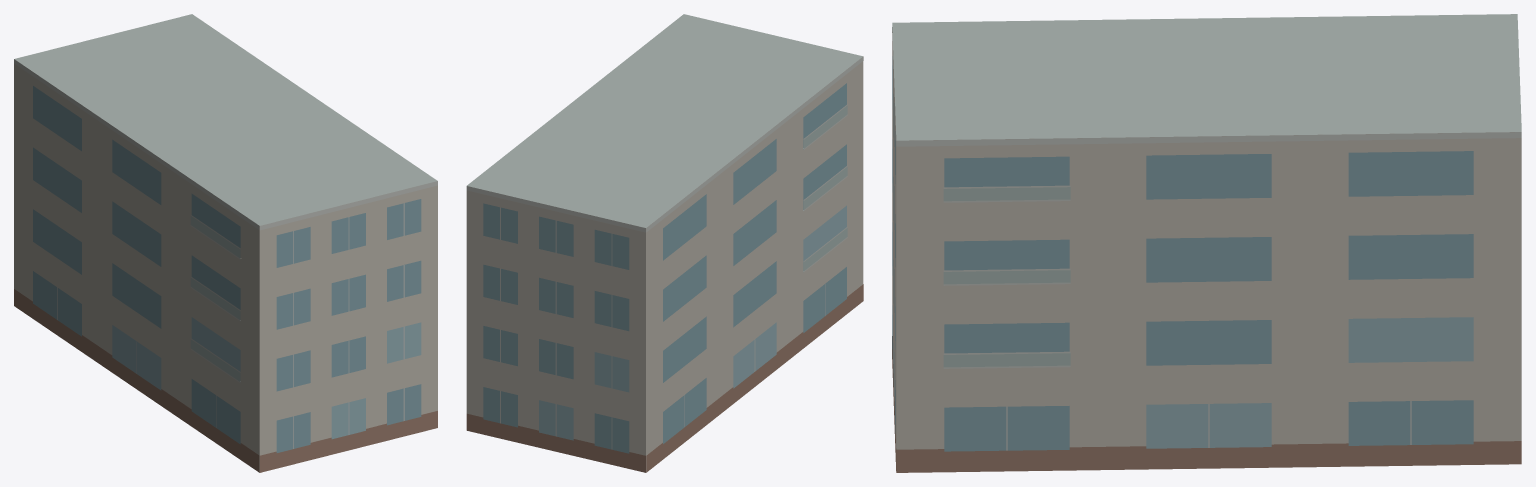
The model's file is survey-upis-32709880.glb.
3 views of the same model, side by side, from view 1: azimuth 30°, elevation 25°; view 2: azimuth 150°, elevation 25°; view 3: azimuth 270°, elevation 25° (orthographic). The views are drawn at different scales.
Parts seen in each view (by area): view 1: survey-upis-32709880.tmp; view 2: survey-upis-32709880.tmp; view 3: survey-upis-32709880.tmp.
Boxes of the visible parts, x1,y1,x2,y2 form: survey-upis-32709880.tmp: [14, 14, 437, 472]; survey-upis-32709880.tmp: [466, 14, 863, 472]; survey-upis-32709880.tmp: [892, 14, 1521, 472].
Size of the model in its own units: 10.84 by 13.25 by 22.77.
